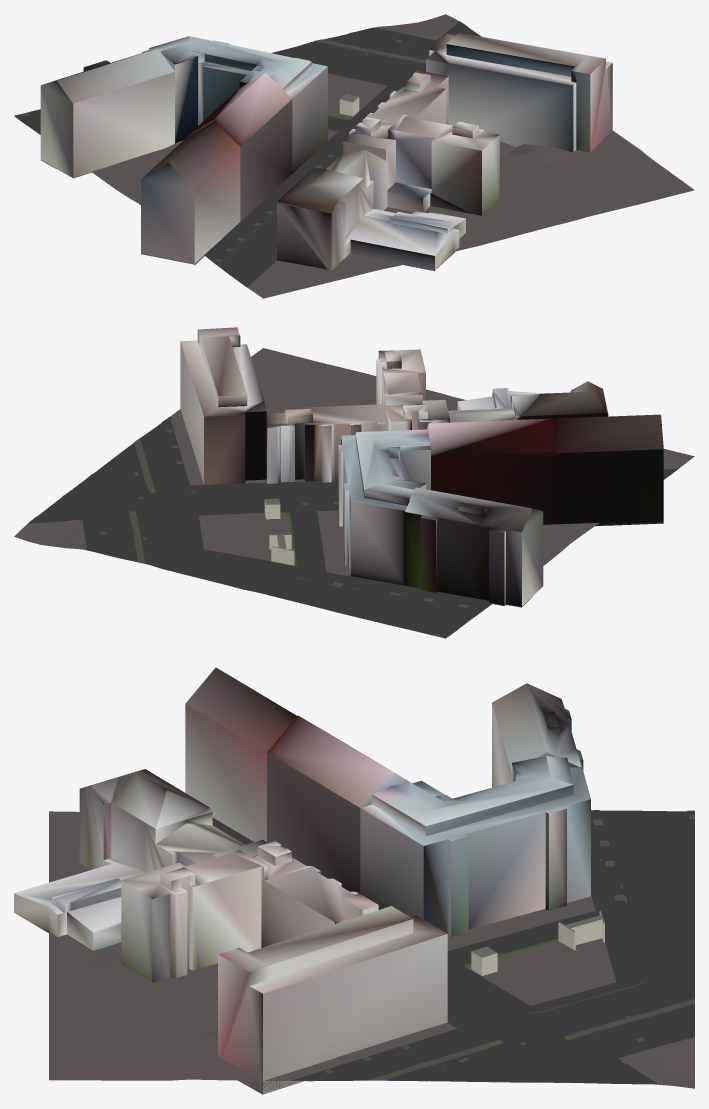
3 renders of one model, top to bottom at view 1: azimuth 30°, elevation 25°; view 2: azimuth 150°, elevation 25°; view 3: azimuth 270°, elevation 25°, orthographic. The views are drawn at different scales.
Parts seen in each view (by area): view 1: c_m14_m14; view 2: c_m14_m14; view 3: c_m14_m14.
Part boxes in pixels (x1,y1,x2,y2): c_m14_m14: (14, 14, 694, 298); c_m14_m14: (14, 327, 694, 638); c_m14_m14: (14, 667, 694, 1094).
Bounding box in the file's own units: 142 × 29.99 × 135.
